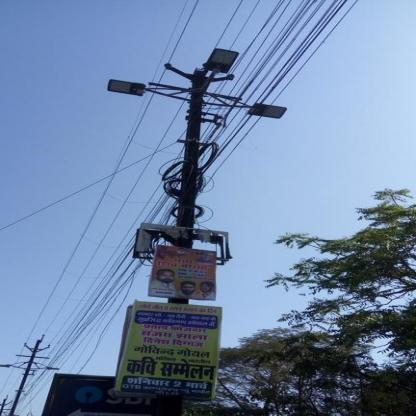Electrical Pole: (83, 43, 294, 410)
